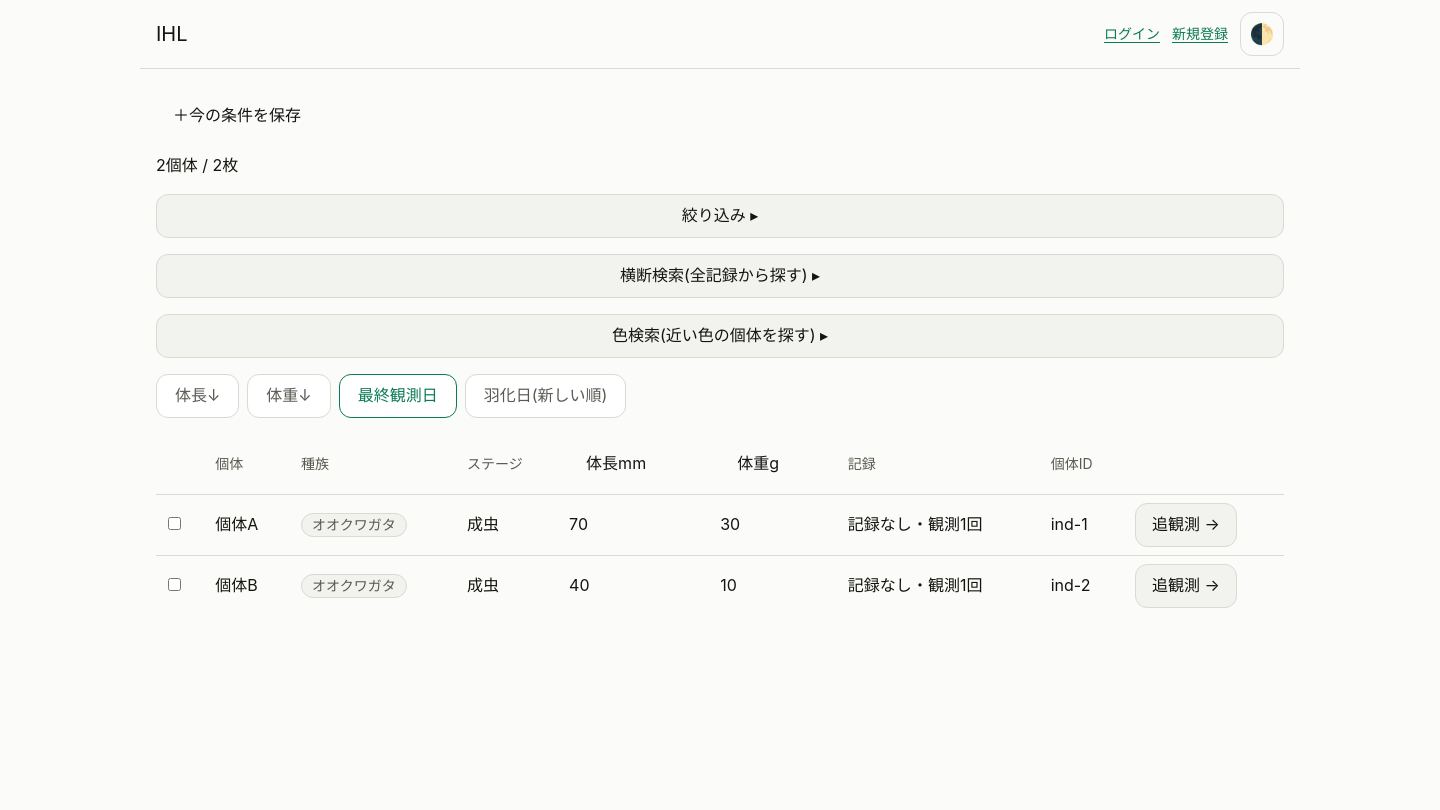
T4: NumericFilterRow — 以上/以下/付近の3ボタン常時表示クリック選択 › 体重(g)の行も同じ3ボタンで動く(共通部品なので両方に効くことの確認)
The width and height of the screenshot is (1440, 810).
Expected: the text "2個体 / 2枚" is shown, [156,155,238,175]
Click the button "絞り込み ▸": (720, 216) [156,194,1284,238]
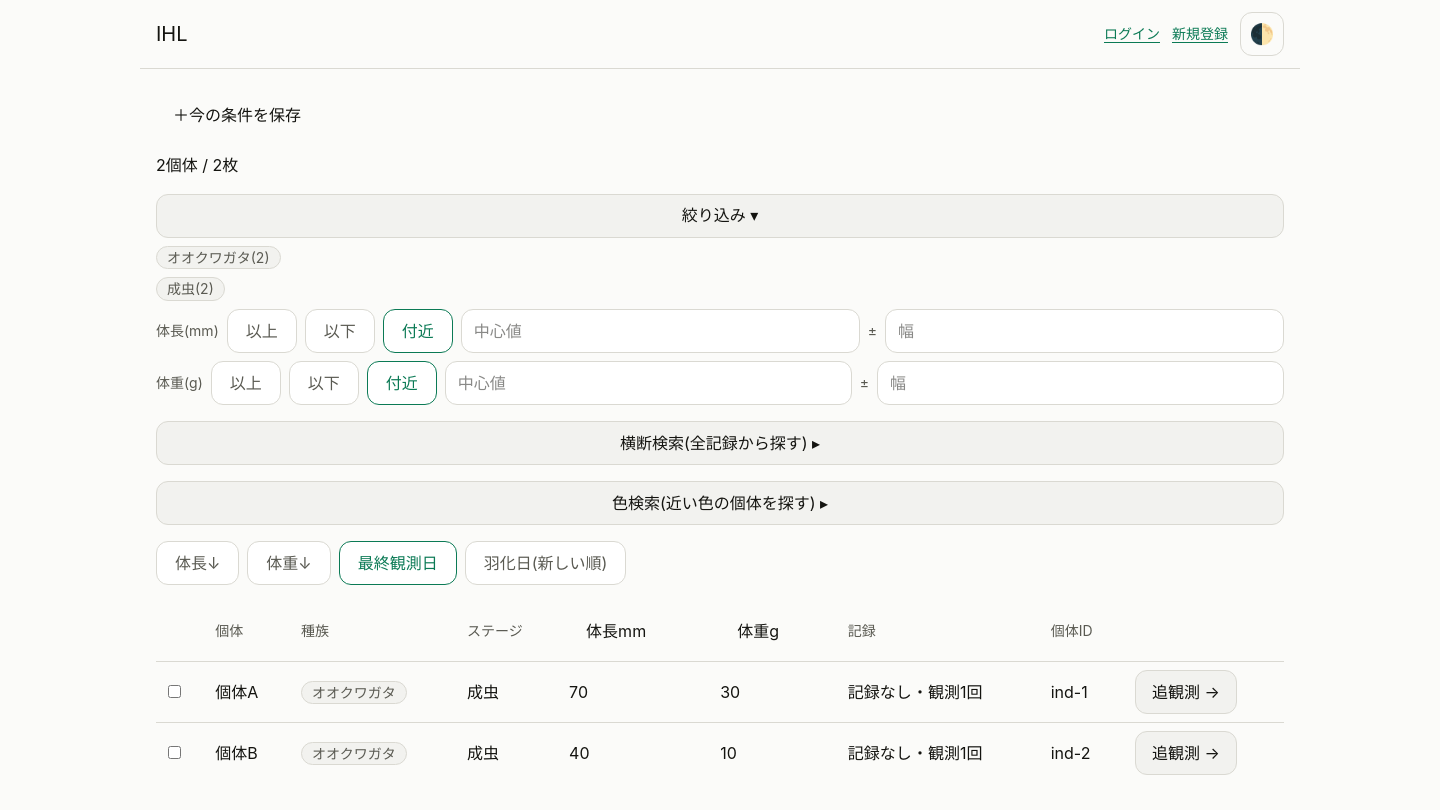
Click the radio button labelled "以下" in the row of "体重(g)": (324, 383) [289,361,359,405]
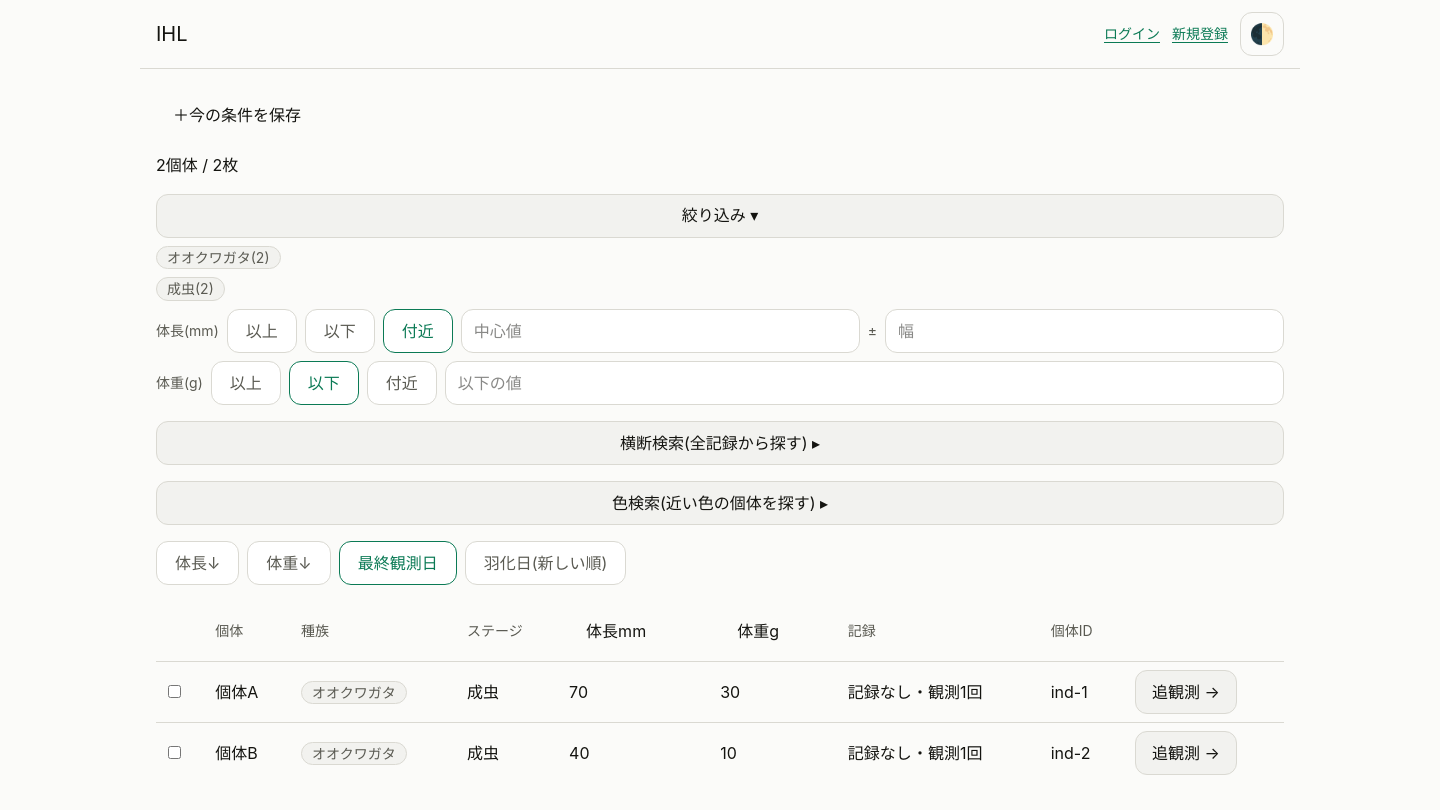
In the number field with placeholder "以下の値": (864, 383) [445,361,1284,405], type "15"
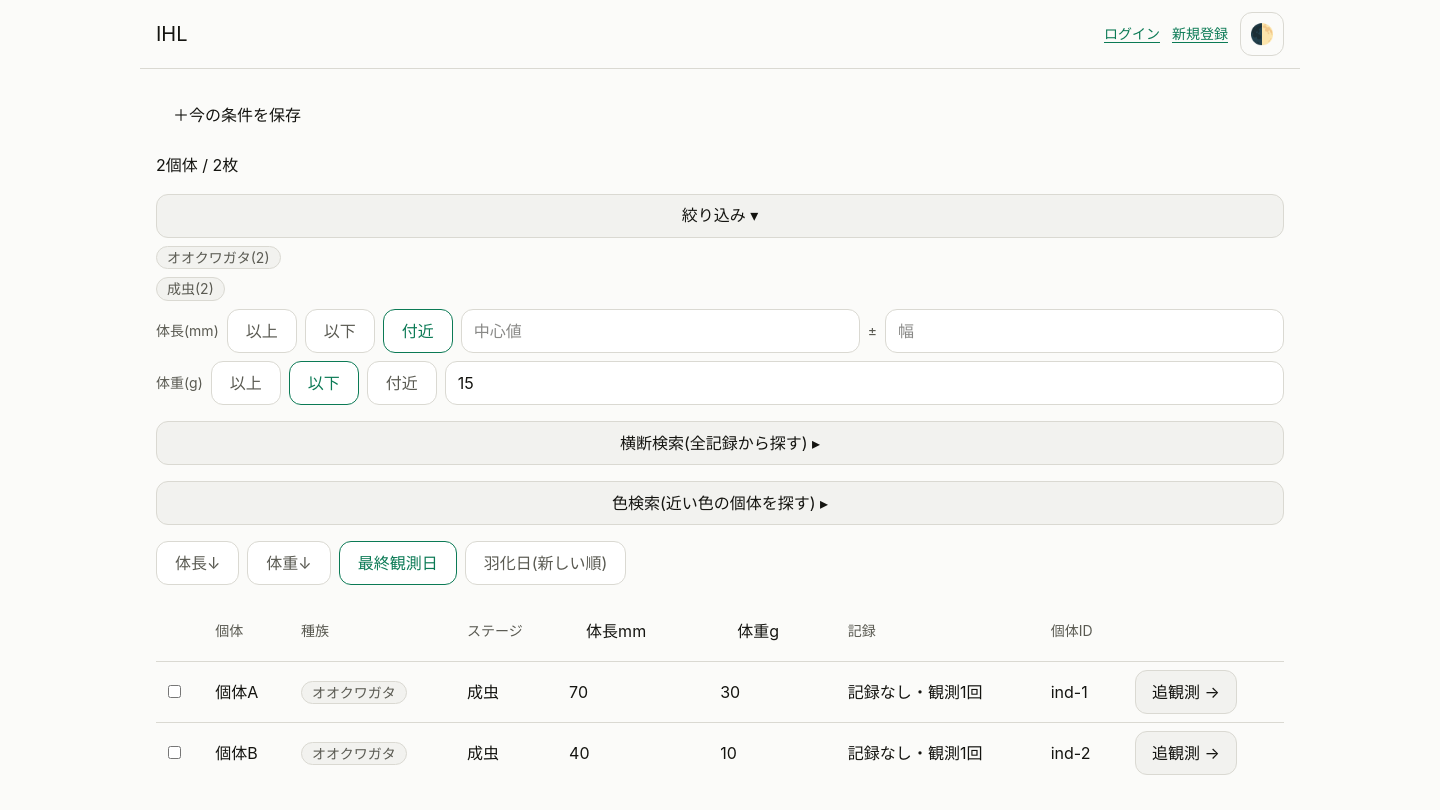
Leave the number field with placeholder "以下の値", box [445,361,1284,405]
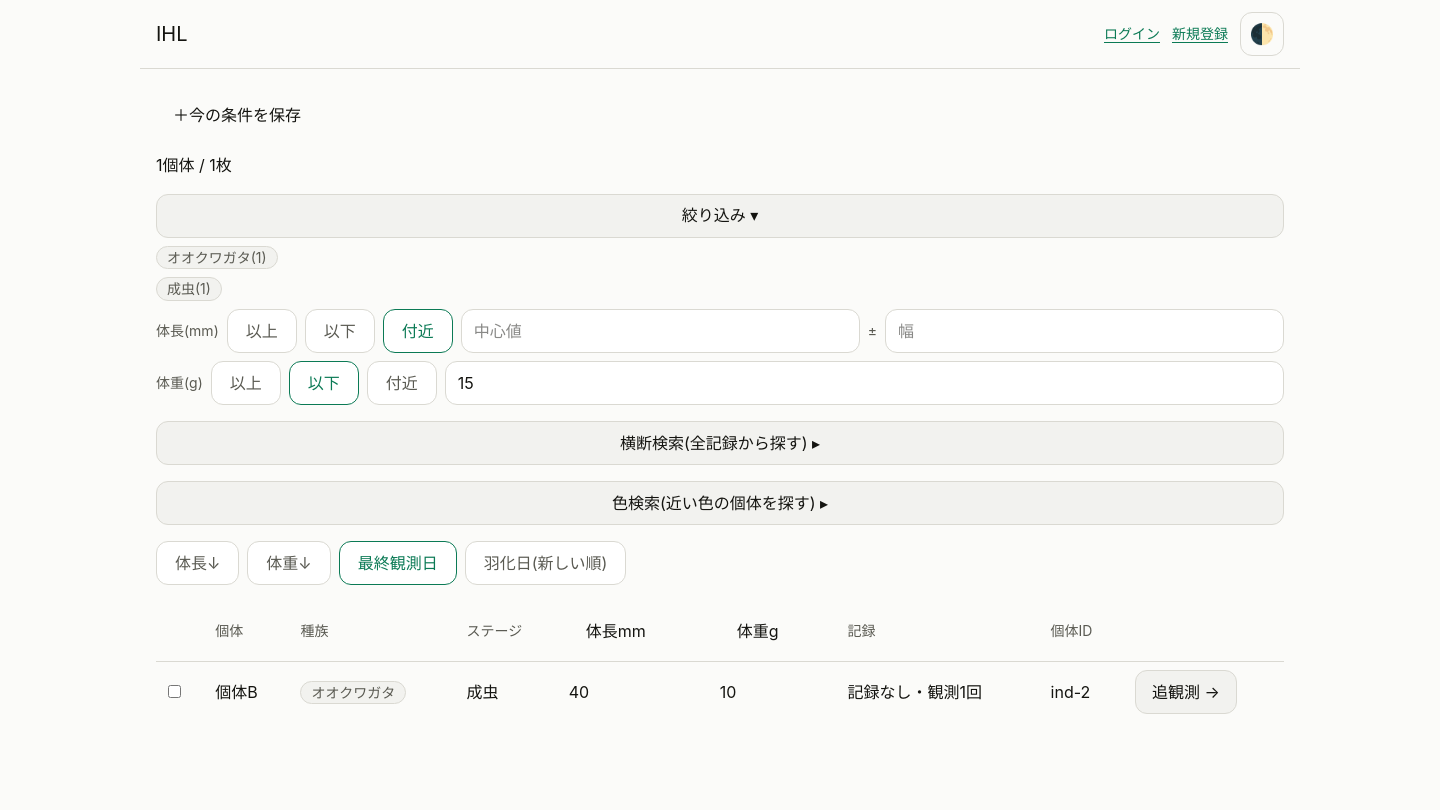
Result: the text "1個体 / 1枚" is shown at [156,155,232,175]
